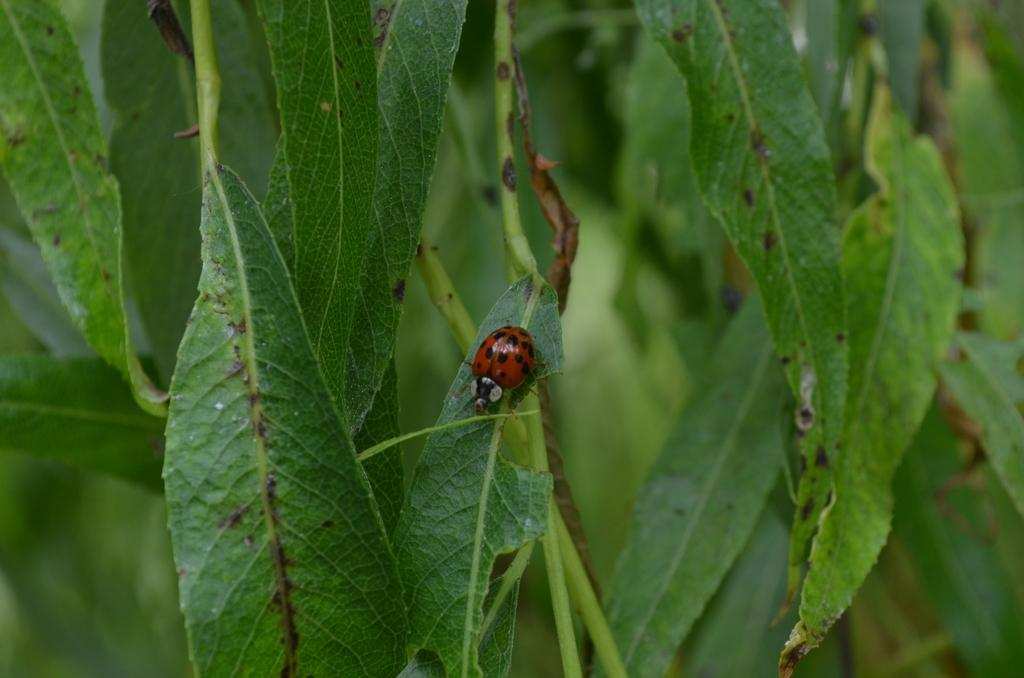ladybug: (461, 324, 549, 417)
